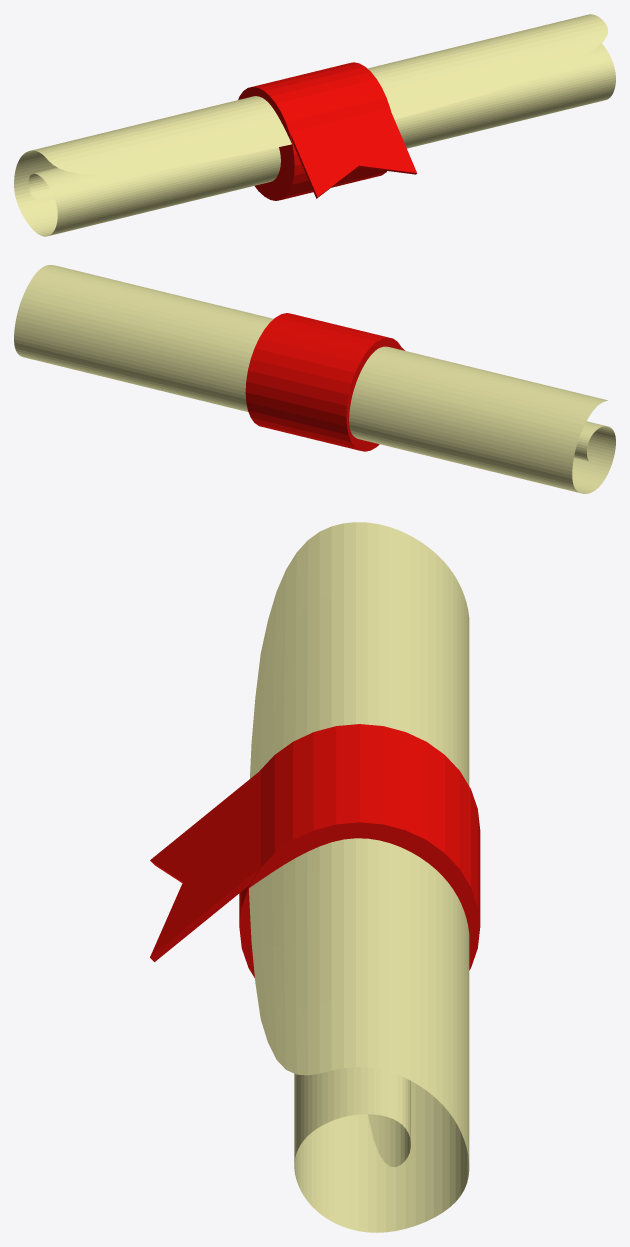
File: Diploma.fbx
3 renders of one model, top to bottom at view 1: azimuth 30°, elevation 25°; view 2: azimuth 150°, elevation 25°; view 3: azimuth 270°, elevation 25°, orthographic. The views are drawn at different scales.
Visible parts, largest first — view 1: Plane, Cylinder, Plane.001; view 2: Plane, Cylinder; view 3: Plane, Cylinder, Plane.001.
Boxes of the visible parts, bbox=[...] form: Plane: bbox=[14, 14, 615, 236]; Cylinder: bbox=[238, 62, 390, 200]; Plane.001: bbox=[290, 107, 416, 198]; Plane: bbox=[14, 265, 615, 493]; Cylinder: bbox=[245, 313, 402, 451]; Plane: bbox=[249, 522, 469, 1232]; Cylinder: bbox=[239, 724, 480, 977]; Plane.001: bbox=[150, 770, 260, 961].
Size of the model in its own units: 171 by 30.89 by 43.85.
